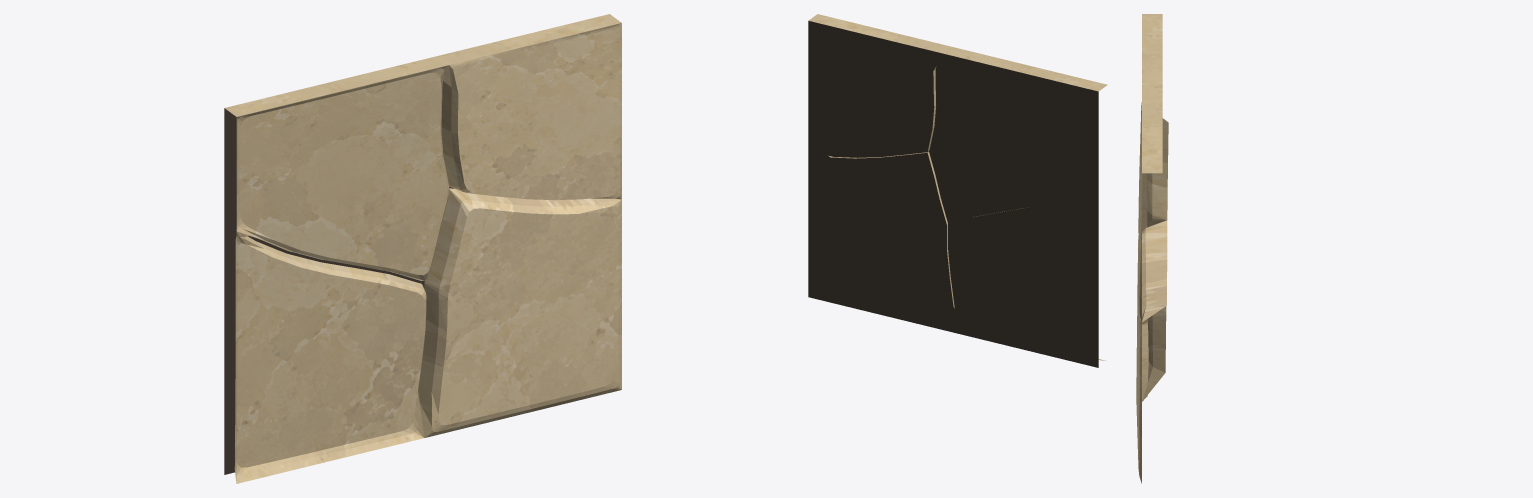
Rendered from ground_edge_10.glb.
3 renders of one model, left to right at view 1: azimuth 30°, elevation 25°; view 2: azimuth 150°, elevation 25°; view 3: azimuth 270°, elevation 25°, orthographic. The views are drawn at different scales.
Visible parts, largest first — view 1: GroundEdge10_Body; view 2: GroundEdge10_Body; view 3: GroundEdge10_Body.
Part boxes in pixels (left/top/right/bottom): GroundEdge10_Body: left=224, top=14, right=621, bottom=483; GroundEdge10_Body: left=808, top=14, right=1107, bottom=367; GroundEdge10_Body: left=1136, top=14, right=1168, bottom=483.
Size of the model in its own units: 1 by 0.91 by 1.01.
Materials: 6 (5 with a texture image).
